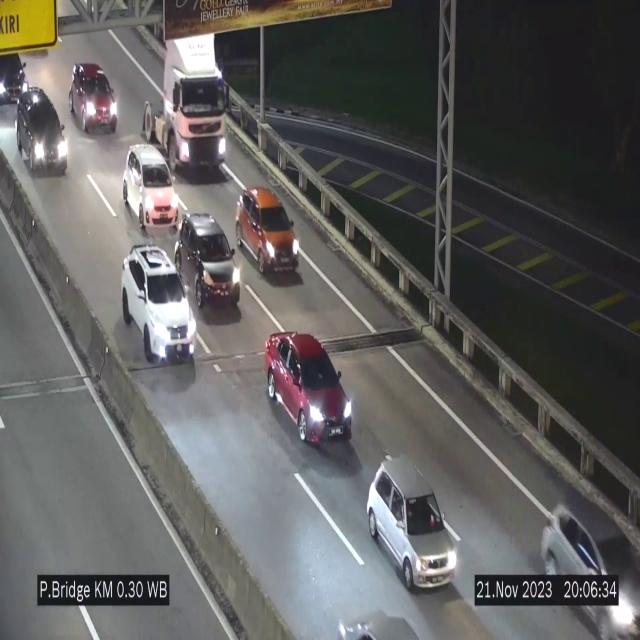Car: (534, 474, 640, 640), (366, 455, 459, 589), (265, 331, 353, 451), (122, 242, 198, 378), (176, 214, 244, 316), (235, 187, 299, 280), (15, 87, 69, 185), (123, 144, 177, 230), (70, 63, 118, 134), (0, 47, 40, 107)
Truck: (142, 28, 230, 182)
